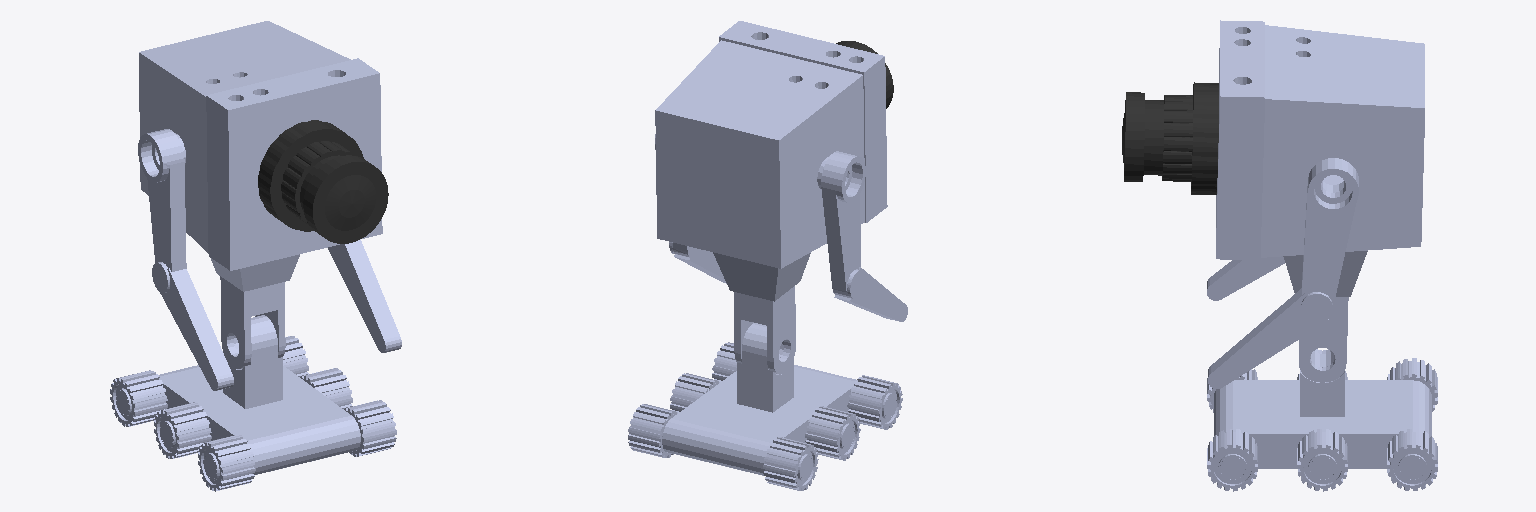
URDF robot description (butter_v33):
<?xml version="1.0" encoding="utf-8"?>
<!-- This URDF was automatically created by SolidWorks to URDF Exporter! Originally created by [author] ([email redacted]) 
     Commit Version: 1.6.0-1-g15f4949  Build Version: 1.6.7594.29634
     For more information, please see http://wiki.ros.org/sw_urdf_exporter -->
<robot
  name="butter_v33">
  
<!-- Adiciona o Plugin da Camera -->
  <gazebo reference="camera_link">
    <sensor type="camera" name="camera">
      <update_rate>30.0</update_rate>
      <camera name="head">   <!-- nao altere o nome onde esta escrito head -->
        <horizontal_fov>1.3962634</horizontal_fov>
        <image>
          <width>800</width>
          <height>800</height>
          <format>R8G8B8</format>
        </image>
        <clip>
          <near>0.02</near>
          <far>300</far>
        </clip>
        <noise>
          <type>gaussian</type>
          <mean>0.0</mean>
          <stddev>0.007</stddev>
        </noise>
      </camera>
      <plugin name="camera_controller" filename="libgazebo_ros_camera.so">
        <alwaysOn>true</alwaysOn>
        <updateRate>0.0</updateRate>
        <cameraName>/edrom_butter/camera</cameraName>
        <imageTopicName>image_raw</imageTopicName>
        <cameraInfoTopicName>camera_info</cameraInfoTopicName>
        <frameName>camera_link</frameName>
        <hackBaseline>0.07</hackBaseline>
        <distortionK1>0.0</distortionK1>
        <distortionK2>0.0</distortionK2>
        <distortionK3>0.0</distortionK3>
        <distortionT1>0.0</distortionT1>
        <distortionT2>0.0</distortionT2>
      </plugin>
    </sensor>
  </gazebo>

   <!-- Faz a camera aparecer no modelo -->
  <link name="camera_link">
    <visual>
      <origin xyz="0 0 0" rpy="0 0 0"/>
      <geometry>
    <box size="0.005 0.005 0.005"/>   <!-- Gera o tamanho do bloco que virtualiza a camera-->
      </geometry>
      <material name="red"/>
    </visual>

    <inertial>
      <mass value="1e-5" />
      <origin xyz="0 0 0" rpy="0 0 0"/>
      <inertia ixx="1e-6" ixy="0" ixz="0" iyy="1e-6" iyz="0" izz="1e-6" />
    </inertial>
  </link>
  
  <joint name="camera_joint" type="fixed">
    <axis xyz="0 0 1" />    
    <origin xyz="0.0 0.004 0.01375" rpy="0 -1.5708 0"/>   <!-- Ponto de origem e eixo de visualizacao da camera -->
    <parent link="head_link"/>   <!-- Vincula a referencia da peca a referencia da camera. Onde esta "head" adicione o nome da sua peca -->
    <child link="camera_link"/>
  </joint>

  <link
    name="base_link">
    <inertial>
      <origin
        xyz="0.012519 0.0034172 -4.3667E-18"
        rpy="0 0 0" />
      <mass
        value="0.0048494" />
      <inertia
        ixx="3.0192E-07"
        ixy="-5.6467E-23"
        ixz="1.7173E-23"
        iyy="4.6603E-07"
        iyz="3.0537E-23"
        izz="2.5641E-07" />
    </inertial>
    <visual>
      <origin
        xyz="0 0 0"
        rpy="0 0 0" />
      <geometry>
        <mesh
          filename="package://butter_v33/meshes/base_link.STL" />
      </geometry>
      <material
        name="">
        <color
          rgba="0.79216 0.81961 0.93333 1" />
      </material>
    </visual>
    <collision>
      <origin
        xyz="0 0 0"
        rpy="0 0 0" />
      <geometry>
        <mesh
          filename="package://butter_v33/meshes/base_link.STL" />
      </geometry>
    </collision>
  </link>
  <link
    name="motor_esq_tras_link">
    <inertial>
      <origin
        xyz="0.003 1.8605E-15 1.1418E-14"
        rpy="0 0 0" />
      <mass
        value="0.00018313" />
      <inertia
        ixx="1.7417E-09"
        ixy="-1.5376E-25"
        ixz="-4.2248E-25"
        iyy="1.3632E-09"
        iyz="2.3264E-25"
        izz="1.3632E-09" />
    </inertial>
    <visual>
      <origin
        xyz="0 0 0"
        rpy="0 0 0" />
      <geometry>
        <mesh
          filename="package://butter_v33/meshes/motor_esq_tras_link.STL" />
      </geometry>
      <material
        name="">
        <color
          rgba="0.79216 0.81961 0.93333 1" />
      </material>
    </visual>
    <collision>
      <origin
        xyz="0 0 0"
        rpy="0 0 0" />
      <geometry>
        <mesh
          filename="package://butter_v33/meshes/motor_esq_tras_link.STL" />
      </geometry>
    </collision>
  </link>
  <joint
    name="motor_esq_tras"
    type="continuous">
    <origin
      xyz="0.022519 0.014 0.0026087"
      rpy="-1.2783 0 0" />
    <parent
      link="base_link" />
    <child
      link="motor_esq_tras_link" />
    <axis
      xyz="1 0 0" />
  </joint>
  <link
    name="motor_esq_meio_link">
    <inertial>
      <origin
        xyz="0.003 -7.52978408791183E-16 -1.80411241501588E-16"
        rpy="0 0 0" />
      <mass
        value="0.000183131399115771" />
      <inertia
        ixx="1.74169018722331E-09"
        ixy="4.09234713889621E-26"
        ixz="3.15518349274499E-25"
        iyy="1.36323911008934E-09"
        iyz="3.10192729707385E-25"
        izz="1.36323911008934E-09" />
    </inertial>
    <visual>
      <origin
        xyz="0 0 0"
        rpy="0 0 0" />
      <geometry>
        <mesh
          filename="package://butter_v33/meshes/motor_esq_meio_link.STL" />
      </geometry>
      <material
        name="">
        <color
          rgba="0.792156862745098 0.819607843137255 0.933333333333333 1" />
      </material>
    </visual>
    <collision>
      <origin
        xyz="0 0 0"
        rpy="0 0 0" />
      <geometry>
        <mesh
          filename="package://butter_v33/meshes/motor_esq_meio_link.STL" />
      </geometry>
    </collision>
  </link>
  <joint
    name="motor_esq_meio"
    type="continuous">
    <origin
      xyz="0.022519 0 0.0026087"
      rpy="2.9064 0 0" />
    <parent
      link="base_link" />
    <child
      link="motor_esq_meio_link" />
    <axis
      xyz="1 0 0" />
  </joint>
  <link
    name="motor_esq_frente_Link">
    <inertial>
      <origin
        xyz="0.003 -3.73399228204008E-15 1.90993054705046E-15"
        rpy="0 0 0" />
      <mass
        value="0.000183131399115772" />
      <inertia
        ixx="1.74169018722331E-09"
        ixy="2.72121110596452E-25"
        ixz="5.96562719095E-26"
        iyy="1.36323911008934E-09"
        iyz="2.58493941422821E-25"
        izz="1.36323911008934E-09" />
    </inertial>
    <visual>
      <origin
        xyz="0 0 0"
        rpy="0 0 0" />
      <geometry>
        <mesh
          filename="package://butter_v33/meshes/motor_esq_frente_Link.STL" />
      </geometry>
      <material
        name="">
        <color
          rgba="0.792156862745098 0.819607843137255 0.933333333333333 1" />
      </material>
    </visual>
    <collision>
      <origin
        xyz="0 0 0"
        rpy="0 0 0" />
      <geometry>
        <mesh
          filename="package://butter_v33/meshes/motor_esq_frente_Link.STL" />
      </geometry>
    </collision>
  </link>
  <joint
    name="motor_esq_frente"
    type="continuous">
    <origin
      xyz="0.022519 -0.014 0.0026087"
      rpy="-1.2824 0 0" />
    <parent
      link="base_link" />
    <child
      link="motor_esq_frente_Link" />
    <axis
      xyz="1 0 0" />
  </joint>
  <link
    name="motor_dir_tras_link">
    <inertial>
      <origin
        xyz="-0.000481150670232955 -5.65519853168439E-15 -2.61075883134509E-15"
        rpy="0 0 0" />
      <mass
        value="0.000183131399115772" />
      <inertia
        ixx="1.74169018722331E-09"
        ixy="1.6372969393684E-25"
        ixz="1.37242809988697E-25"
        iyy="1.36323911008934E-09"
        iyz="3.36042123849667E-25"
        izz="1.36323911008933E-09" />
    </inertial>
    <visual>
      <origin
        xyz="0 0 0"
        rpy="0 0 0" />
      <geometry>
        <mesh
          filename="package://butter_v33/meshes/motor_dir_tras_link.STL" />
      </geometry>
      <material
        name="">
        <color
          rgba="0.792156862745098 0.819607843137255 0.933333333333333 1" />
      </material>
    </visual>
    <collision>
      <origin
        xyz="0 0 0"
        rpy="0 0 0" />
      <geometry>
        <mesh
          filename="package://butter_v33/meshes/motor_dir_tras_link.STL" />
      </geometry>
    </collision>
  </link>
  <joint
    name="motor_dir_tras"
    type="continuous">
    <origin
      xyz="0 0.014 0.0026087"
      rpy="-1.8137 0 0" />
    <parent
      link="base_link" />
    <child
      link="motor_dir_tras_link" />
    <axis
      xyz="1 0 0" />
  </joint>
  <link
    name="motor_dir_meio_link">
    <inertial>
      <origin
        xyz="-0.000481150670232952 -1.59746348094014E-15 -1.53631447841196E-15"
        rpy="0 0 0" />
      <mass
        value="0.000183131399115772" />
      <inertia
        ixx="1.74169018722331E-09"
        ixy="-8.31633363248937E-26"
        ixz="-5.4242781285591E-26"
        iyy="1.36323911008934E-09"
        iyz="4.13590306276514E-25"
        izz="1.36323911008934E-09" />
    </inertial>
    <visual>
      <origin
        xyz="0 0 0"
        rpy="0 0 0" />
      <geometry>
        <mesh
          filename="package://butter_v33/meshes/motor_dir_meio_link.STL" />
      </geometry>
      <material
        name="">
        <color
          rgba="0.792156862745098 0.819607843137255 0.933333333333333 1" />
      </material>
    </visual>
    <collision>
      <origin
        xyz="0 0 0"
        rpy="0 0 0" />
      <geometry>
        <mesh
          filename="package://butter_v33/meshes/motor_dir_meio_link.STL" />
      </geometry>
    </collision>
  </link>
  <joint
    name="motor_dir_meio"
    type="continuous">
    <origin
      xyz="0 0 0.0026087"
      rpy="-0.76654 0 0" />
    <parent
      link="base_link" />
    <child
      link="motor_dir_meio_link" />
    <axis
      xyz="1 0 0" />
  </joint>
  <link
    name="motor_dir_frente_link">
    <inertial>
      <origin
        xyz="-0.00048115067023296 3.04790914729125E-15 2.88311041707345E-15"
        rpy="0 0 0" />
      <mass
        value="0.000183131399115772" />
      <inertia
        ixx="1.74169018722331E-09"
        ixy="-4.08804314539374E-25"
        ixz="9.96318723210213E-27"
        iyy="1.36323911008934E-09"
        iyz="5.16987882845642E-25"
        izz="1.36323911008934E-09" />
    </inertial>
    <visual>
      <origin
        xyz="0 0 0"
        rpy="0 0 0" />
      <geometry>
        <mesh
          filename="package://butter_v33/meshes/motor_dir_frente_link.STL" />
      </geometry>
      <material
        name="">
        <color
          rgba="0.792156862745098 0.819607843137255 0.933333333333333 1" />
      </material>
    </visual>
    <collision>
      <origin
        xyz="0 0 0"
        rpy="0 0 0" />
      <geometry>
        <mesh
          filename="package://butter_v33/meshes/motor_dir_frente_link.STL" />
      </geometry>
    </collision>
  </link>
  <joint
    name="motor_dir_frente"
    type="continuous">
    <origin
      xyz="0 -0.014 0.0026087"
      rpy="-2.5119 0 0" />
    <parent
      link="base_link" />
    <child
      link="motor_dir_frente_link" />
    <axis
      xyz="1 0 0" />
  </joint>
  <link
    name="motor_base_link">
    <inertial>
      <origin
        xyz="0.0126163703657393 -0.0320016731668491 -0.00246282078418345"
        rpy="0 0 0" />
      <mass
        value="0.0124009744182285" />
      <inertia
        ixx="1.25475340607901E-06"
        ixy="6.72027782410902E-09"
        ixz="1.05202199799677E-09"
        iyy="1.26692127915553E-06"
        iyz="-9.25613501252401E-09"
        izz="1.68642011734325E-06" />
    </inertial>
    <visual>
      <origin
        xyz="0 0 0"
        rpy="0 0 0" />
      <geometry>
        <mesh
          filename="package://butter_v33/meshes/motor_base_link.STL" />
      </geometry>
      <material
        name="">
        <color
          rgba="0.792156862745098 0.819607843137255 0.933333333333333 1" />
      </material>
    </visual>
    <collision>
      <origin
        xyz="0 0 0"
        rpy="0 0 0" />
      <geometry>
        <mesh
          filename="package://butter_v33/meshes/motor_base_link.STL" />
      </geometry>
    </collision>
  </link>
  <joint
    name="motor_base"
    type="continuous">
    <origin
      xyz="0 0 0.015609"
      rpy="-1.5969 0 0" />
    <parent
      link="base_link" />
    <child
      link="motor_base_link" />
    <axis
      xyz="1 0 0" />
  </joint>
  <link
    name="motor_ombro_dir_link">
    <inertial>
      <origin
        xyz="0.00148730045602078 -0.0082214441696226 -0.00159221455047252"
        rpy="0 0 0" />
      <mass
        value="0.000426617038477361" />
      <inertia
        ixx="2.27702544704245E-08"
        ixy="-2.99500712883415E-10"
        ixz="-5.80031175899547E-11"
        iyy="2.83119823513615E-09"
        iyz="-3.58714763192266E-09"
        izz="2.06588262402105E-08" />
    </inertial>
    <visual>
      <origin
        xyz="0 0 0"
        rpy="0 0 0" />
      <geometry>
        <mesh
          filename="package://butter_v33/meshes/motor_ombro_dir_link.STL" />
      </geometry>
      <material
        name="">
        <color
          rgba="0.792156862745098 0.819607843137255 0.933333333333333 1" />
      </material>
    </visual>
    <collision>
      <origin
        xyz="0 0 0"
        rpy="0 0 0" />
      <geometry>
        <mesh
          filename="package://butter_v33/meshes/motor_ombro_dir_link.STL" />
      </geometry>
    </collision>
  </link>
  <joint
    name="motor_ombro_dir"
    type="continuous">
    <origin
      xyz="-0.0014838 -0.035426 0.00075"
      rpy="-0.11035 0 -3.1416" />
    <parent
      link="motor_base_link" />
    <child
      link="motor_ombro_dir_link" />
    <axis
      xyz="1 0 0" />
  </joint>
  <link
    name="motor_mao_dir_link">
    <inertial>
      <origin
        xyz="0 -0.009170088371685 -0.00156088656227564"
        rpy="0 0 0" />
      <mass
        value="0.000282173671532661" />
      <inertia
        ixx="8.06424998618971E-09"
        ixy="2.09380092552485E-24"
        ixz="-3.99498943914048E-26"
        iyy="7.1848587185355E-10"
        iyz="-6.09023571688409E-25"
        izz="8.33268958664053E-09" />
    </inertial>
    <visual>
      <origin
        xyz="0 0 0"
        rpy="0 0 0" />
      <geometry>
        <mesh
          filename="package://butter_v33/meshes/motor_mao_dir_link.STL" />
      </geometry>
      <material
        name="">
        <color
          rgba="0.792156862745098 0.819607843137255 0.933333333333333 1" />
      </material>
    </visual>
    <collision>
      <origin
        xyz="0 0 0"
        rpy="0 0 0" />
      <geometry>
        <mesh
          filename="package://butter_v33/meshes/motor_mao_dir_link.STL" />
      </geometry>
    </collision>
  </link>
  <joint
    name="motor_mao_dir"
    type="continuous">
    <origin
      xyz="0 -0.020029 -0.0038789"
      rpy="1.5708 -0.5519 -1.5708" />
    <parent
      link="motor_ombro_dir_link" />
    <child
      link="motor_mao_dir_link" />
    <axis
      xyz="0 0 1" />
  </joint>
  <link
    name="motor_ombro_esq_link">
    <inertial>
      <origin
        xyz="0.00148730045602078 -0.00822144416962261 -0.00159221455047252"
        rpy="0 0 0" />
      <mass
        value="0.000426617038477361" />
      <inertia
        ixx="2.27702544704244E-08"
        ixy="-2.99500712883414E-10"
        ixz="-5.80031175899543E-11"
        iyy="2.83119823513614E-09"
        iyz="-3.58714763192265E-09"
        izz="2.06588262402105E-08" />
    </inertial>
    <visual>
      <origin
        xyz="0 0 0"
        rpy="0 0 0" />
      <geometry>
        <mesh
          filename="package://butter_v33/meshes/motor_ombro_esq_link.STL" />
      </geometry>
      <material
        name="">
        <color
          rgba="0.792156862745098 0.819607843137255 0.933333333333333 1" />
      </material>
    </visual>
    <collision>
      <origin
        xyz="0 0 0"
        rpy="0 0 0" />
      <geometry>
        <mesh
          filename="package://butter_v33/meshes/motor_ombro_esq_link.STL" />
      </geometry>
    </collision>
  </link>
  <joint
    name="motor_ombro_esq"
    type="continuous">
    <origin
      xyz="0.026516 -0.035426 0.00075"
      rpy="2.8504 0 0" />
    <parent
      link="motor_base_link" />
    <child
      link="motor_ombro_esq_link" />
    <axis
      xyz="1 0 0" />
  </joint>
  <link
    name="motor_mao_esq_link">
    <inertial>
      <origin
        xyz="-3.46944695195361E-18 -0.009170088371685 -0.00156088656227564"
        rpy="0 0 0" />
      <mass
        value="0.000282173671532661" />
      <inertia
        ixx="8.0642499861897E-09"
        ixy="-1.008126371549E-24"
        ixz="6.98234600105972E-26"
        iyy="7.18485871853547E-10"
        iyz="-2.15995291301732E-24"
        izz="8.33268958664052E-09" />
    </inertial>
    <visual>
      <origin
        xyz="0 0 0"
        rpy="0 0 0" />
      <geometry>
        <mesh
          filename="package://butter_v33/meshes/motor_mao_esq_link.STL" />
      </geometry>
      <material
        name="">
        <color
          rgba="0.792156862745098 0.819607843137255 0.933333333333333 1" />
      </material>
    </visual>
    <collision>
      <origin
        xyz="0 0 0"
        rpy="0 0 0" />
      <geometry>
        <mesh
          filename="package://butter_v33/meshes/motor_mao_esq_link.STL" />
      </geometry>
    </collision>
  </link>
  <joint
    name="motor_mao_esq"
    type="continuous">
    <origin
      xyz="0 -0.020029 -0.0038789"
      rpy="-1.5708 -0.99863 1.5708" />
    <parent
      link="motor_ombro_esq_link" />
    <child
      link="motor_mao_esq_link" />
    <axis
      xyz="0 0 1" />
  </joint>
  <link
    name="head_link">
    <inertial>
      <origin
        xyz="-5.3544590432851E-07 0.00325324878272705 0.00993314928261171"
        rpy="0 0 0" />
      <mass
        value="0.0023883192065231" />
      <inertia
        ixx="8.05658847190811E-08"
        ixy="-3.60188987486368E-12"
        ixz="-4.54081939252092E-12"
        iyy="8.05771037072277E-08"
        iyz="2.23570055561495E-11"
        izz="6.72584956718303E-08" />
    </inertial>
    <visual>
      <origin
        xyz="0 0 0"
        rpy="0 0 0" />
      <geometry>
        <mesh
          filename="package://butter_v33/meshes/head_link.STL" />
      </geometry>
      <material
        name="">
        <color
          rgba="0.250980392156863 0.250980392156863 0.250980392156863 1" />
      </material>
    </visual>
    <collision>
      <origin
        xyz="0 0 0"
        rpy="0 0 0" />
      <geometry>
        <mesh
          filename="package://butter_v33/meshes/head_link.STL" />
      </geometry>
    </collision>
  </link>
  <joint
    name="head"
    type="fixed">
    <origin
      xyz="0.012461 -0.032427 -0.01375"
      rpy="-3.1416 0 0.049075" />
    <parent
      link="motor_base_link" />
    <child
      link="head_link" />
    <axis
      xyz="0 0 0" />
  </joint>
</robot>

--- Render facts (derived) ---
3 views of the same robot in one strip: view 1: azimuth 30°, elevation 25°; view 2: azimuth 150°, elevation 25°; view 3: azimuth 270°, elevation 25° (orthographic).
Model butter_v33 with 14 links and 13 joints (11 continuous, 2 fixed), rooted at base_link, posed every joint at zero.
Links seen in each view (by area): view 1: motor_base_link, base_link, head_link, motor_ombro_dir_link, motor_mao_dir_link, motor_mao_esq_link, motor_dir_frente_link, motor_dir_tras_link, motor_dir_meio_link, motor_esq_frente_Link, motor_esq_meio_link, motor_esq_tras_link; view 2: motor_base_link, base_link, motor_ombro_dir_link, motor_dir_tras_link, motor_dir_meio_link, motor_dir_frente_link, motor_mao_dir_link, motor_esq_tras_link, motor_esq_meio_link, motor_mao_esq_link, motor_esq_frente_Link; view 3: motor_base_link, base_link, head_link, motor_ombro_esq_link, motor_mao_esq_link, motor_esq_tras_link, motor_esq_meio_link, motor_esq_frente_Link, motor_mao_dir_link, motor_dir_tras_link.
Link boxes in pixels (x1,y1,x2,y2): motor_base_link: (139,21,382,368); base_link: (116,315,360,478); head_link: (258,120,388,243); motor_ombro_dir_link: (138,129,186,271); motor_mao_dir_link: (152,262,233,390); motor_mao_esq_link: (328,239,401,352); motor_dir_frente_link: (198,435,255,491); motor_dir_tras_link: (110,370,167,426); motor_dir_meio_link: (154,402,211,458); motor_esq_frente_Link: (344,400,396,456); motor_esq_meio_link: (300,368,352,408); motor_esq_tras_link: (283,336,308,376); motor_base_link: (655,21,887,374); base_link: (662,323,896,479); motor_ombro_dir_link: (821,151,865,297); motor_dir_tras_link: (763,437,818,490); motor_dir_meio_link: (805,406,860,460); motor_dir_frente_link: (847,375,902,429); motor_mao_dir_link: (834,267,907,321); motor_esq_tras_link: (628,404,677,457); motor_esq_meio_link: (670,373,719,412); motor_mao_esq_link: (669,242,726,283); motor_esq_frente_Link: (712,342,736,381); motor_base_link: (1216,20,1424,382); base_link: (1214,351,1431,479); head_link: (1122,82,1218,194); motor_ombro_esq_link: (1302,158,1358,305); motor_mao_esq_link: (1208,288,1332,388); motor_esq_tras_link: (1387,429,1437,490); motor_esq_meio_link: (1297,429,1347,491); motor_esq_frente_Link: (1207,429,1257,491); motor_mao_dir_link: (1207,256,1284,300); motor_dir_tras_link: (1387,358,1437,411).
Size in the robot's own frame: 0.036 by 0.0493 by 0.067 metres.
13 mesh visuals loaded from 13 distinct referenced files (13 binary STL).
